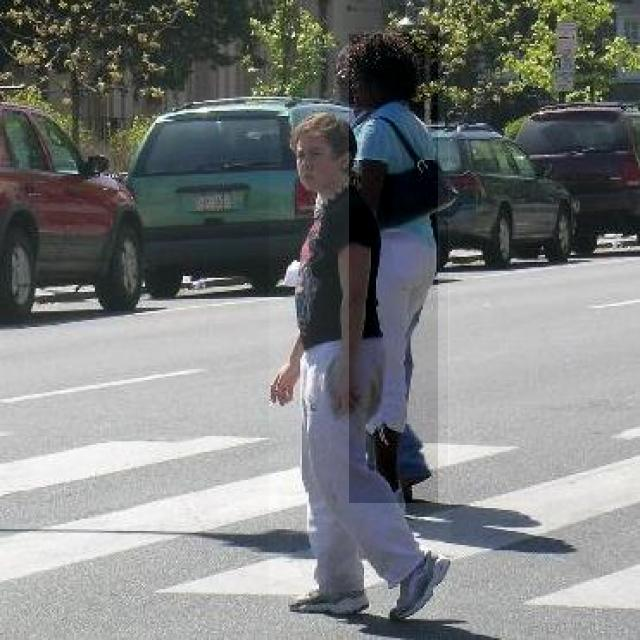with scooter: (269, 112, 450, 630), (356, 27, 448, 499), (349, 34, 438, 503)
